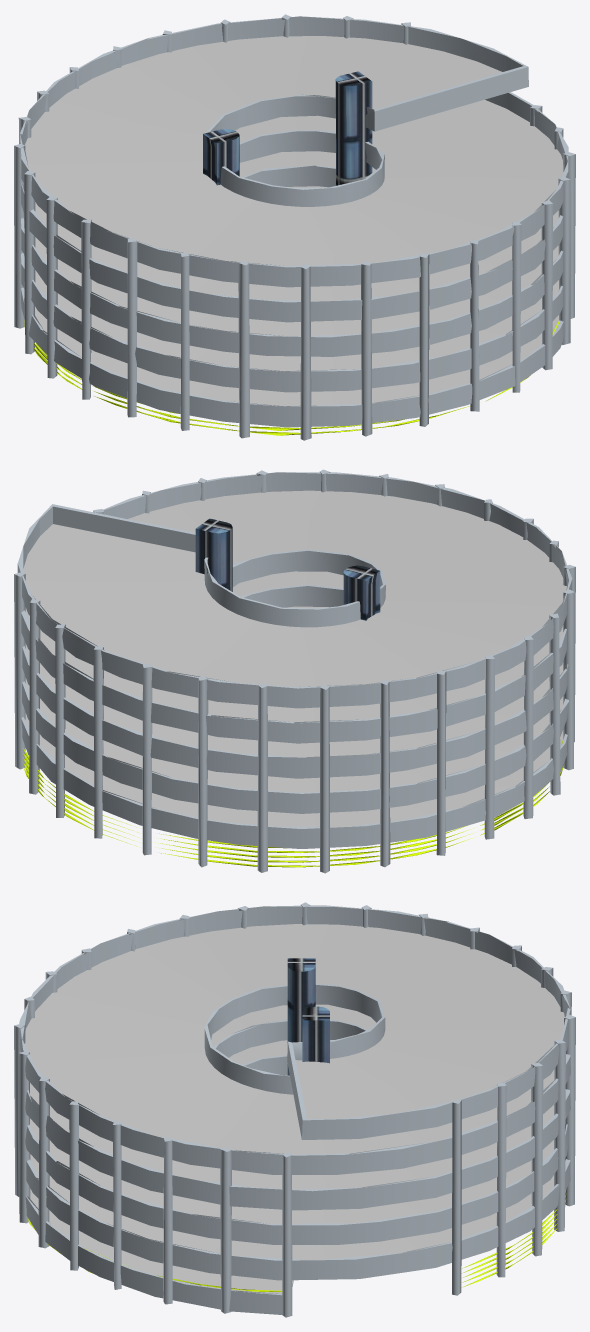
The model's file is Parking_2.fbx.
3 renders of one model, top to bottom at view 1: azimuth 30°, elevation 25°; view 2: azimuth 150°, elevation 25°; view 3: azimuth 270°, elevation 25°, orthographic.
Parts seen in each view (by area): view 1: Parking_2; view 2: Parking_2; view 3: Parking_2.
Boxes of the visible parts, box(x1,y1,x2,y2) form: Parking_2: box(14, 14, 575, 440); Parking_2: box(14, 469, 575, 873); Parking_2: box(14, 902, 575, 1317).
Size of the model in its own units: 4649 by 2007 by 4648.
